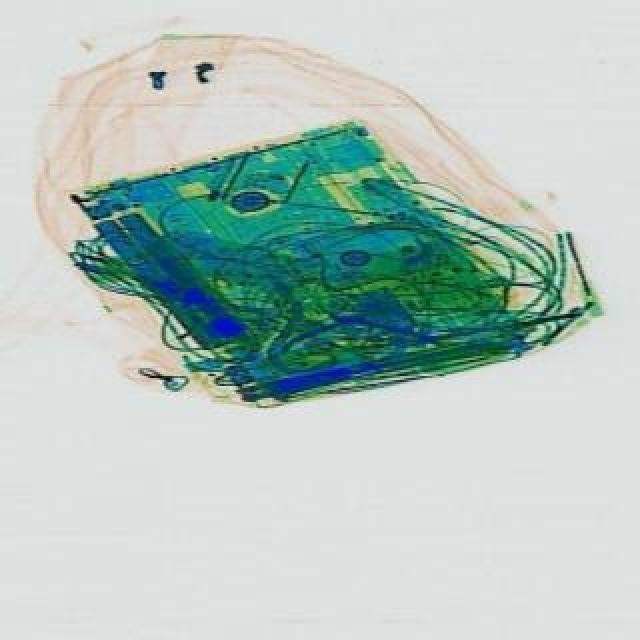wrench: (272, 306, 436, 358)
